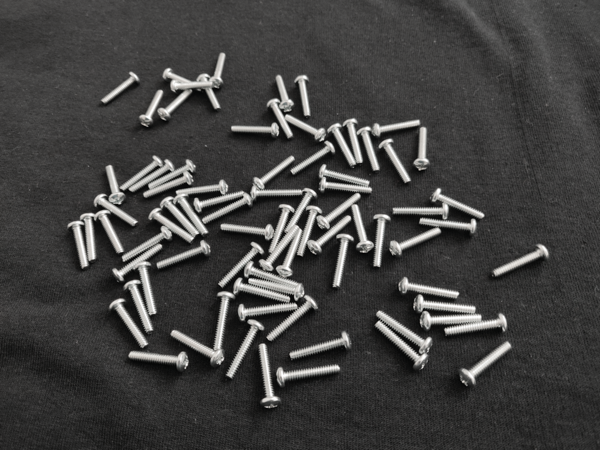longscrew: (373, 319, 431, 372), (457, 341, 514, 390), (265, 295, 321, 343), (376, 310, 434, 356), (226, 320, 265, 381), (169, 329, 226, 369), (108, 298, 151, 351), (111, 243, 166, 284), (218, 242, 265, 289), (491, 245, 552, 279), (289, 331, 355, 362), (259, 224, 301, 272), (307, 214, 353, 257), (121, 226, 174, 263), (429, 187, 486, 221), (123, 279, 157, 336), (257, 343, 284, 411), (378, 137, 414, 188), (316, 192, 362, 231), (389, 227, 443, 260), (156, 239, 213, 270), (148, 207, 195, 244), (160, 196, 201, 238), (244, 260, 303, 289), (202, 192, 255, 224), (290, 141, 337, 177), (93, 194, 141, 229), (283, 188, 319, 234), (232, 277, 291, 305), (213, 291, 237, 359), (120, 156, 165, 192), (172, 194, 210, 236), (247, 276, 306, 303), (146, 159, 199, 189), (443, 313, 509, 337), (127, 350, 191, 374), (128, 160, 176, 192), (252, 155, 297, 189), (276, 364, 342, 387), (296, 205, 324, 259), (133, 261, 159, 319), (398, 276, 460, 300), (94, 210, 125, 258), (142, 171, 195, 199), (267, 205, 296, 255), (331, 233, 356, 289), (100, 71, 141, 105), (327, 123, 357, 169), (419, 311, 484, 332), (284, 112, 328, 143), (276, 229, 304, 277), (157, 88, 194, 124), (412, 295, 478, 315), (318, 164, 371, 188), (66, 220, 91, 270), (266, 98, 295, 141), (193, 190, 247, 213), (418, 216, 480, 236), (357, 125, 382, 174), (238, 302, 299, 322), (372, 213, 393, 271), (351, 204, 375, 254), (391, 202, 451, 221), (319, 176, 373, 197), (138, 88, 165, 130), (342, 118, 365, 166), (196, 73, 223, 113), (372, 117, 422, 138), (162, 67, 204, 92), (249, 184, 303, 203), (219, 223, 274, 241), (176, 179, 230, 197), (80, 212, 98, 265), (104, 165, 126, 206), (413, 126, 432, 173), (294, 73, 313, 119), (275, 73, 296, 114), (230, 122, 281, 138), (171, 78, 216, 94), (210, 52, 228, 89)
